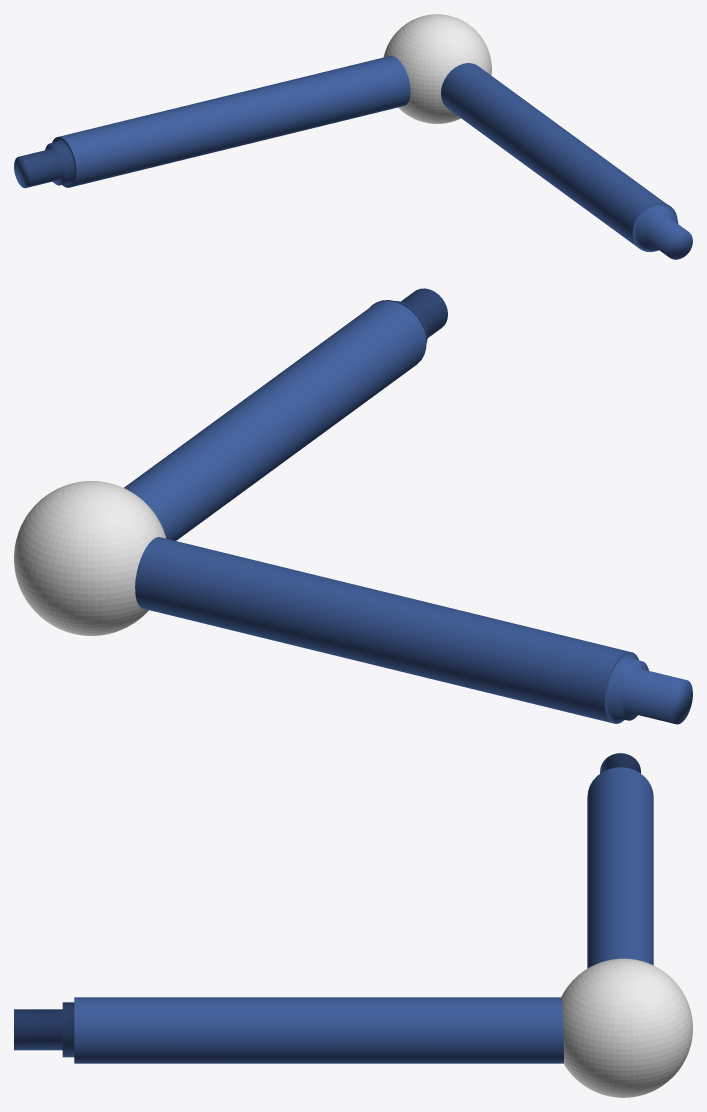
Rendered from curved_wire.fbx.
The picture shows the model from 3 angles, top to bottom: view 1: azimuth 30°, elevation 25°; view 2: azimuth 150°, elevation 25°; view 3: azimuth 270°, elevation 25°; orthographic projection. The views are drawn at different scales.
Parts seen in each view (by area): view 1: basic_wire.002, connector_1.002, Sphere, basic_wire.004, connector_2.003; view 2: basic_wire.002, connector_1.002, Sphere, connector_2.003, basic_wire.004; view 3: connector_1.002, Sphere, basic_wire.002, basic_wire.004, connector_2.003.
Boxes of the visible parts, x1,y1,x2,y2 form: basic_wire.002: [58, 55, 410, 187]; connector_1.002: [441, 63, 677, 252]; Sphere: [383, 14, 491, 123]; basic_wire.004: [632, 203, 692, 259]; connector_2.003: [14, 137, 76, 188]; basic_wire.002: [135, 537, 629, 722]; connector_1.002: [124, 301, 426, 540]; Sphere: [14, 481, 166, 635]; connector_2.003: [604, 652, 692, 724]; basic_wire.004: [369, 288, 447, 342]; connector_1.002: [74, 997, 563, 1063]; Sphere: [561, 958, 692, 1097]; basic_wire.002: [587, 767, 653, 968]; basic_wire.004: [14, 1002, 74, 1057]; connector_2.003: [600, 753, 640, 773].
Bounding box in the file's own units: 205 × 41.99 × 205.
